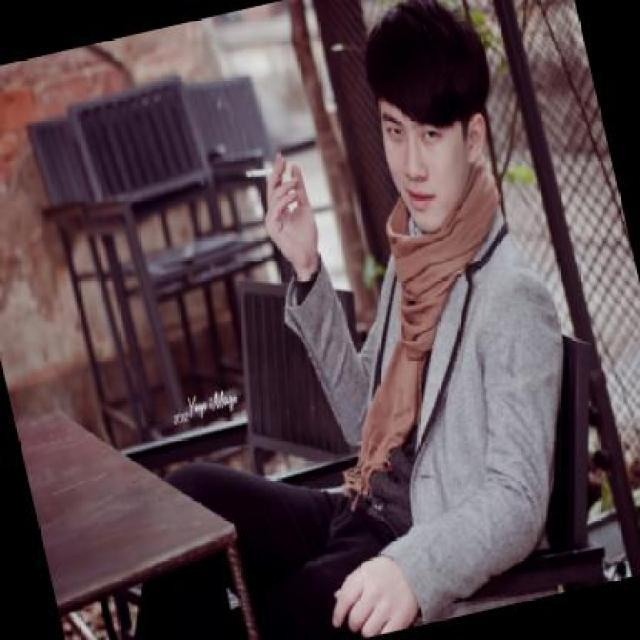smoke: (243, 157, 289, 185)
